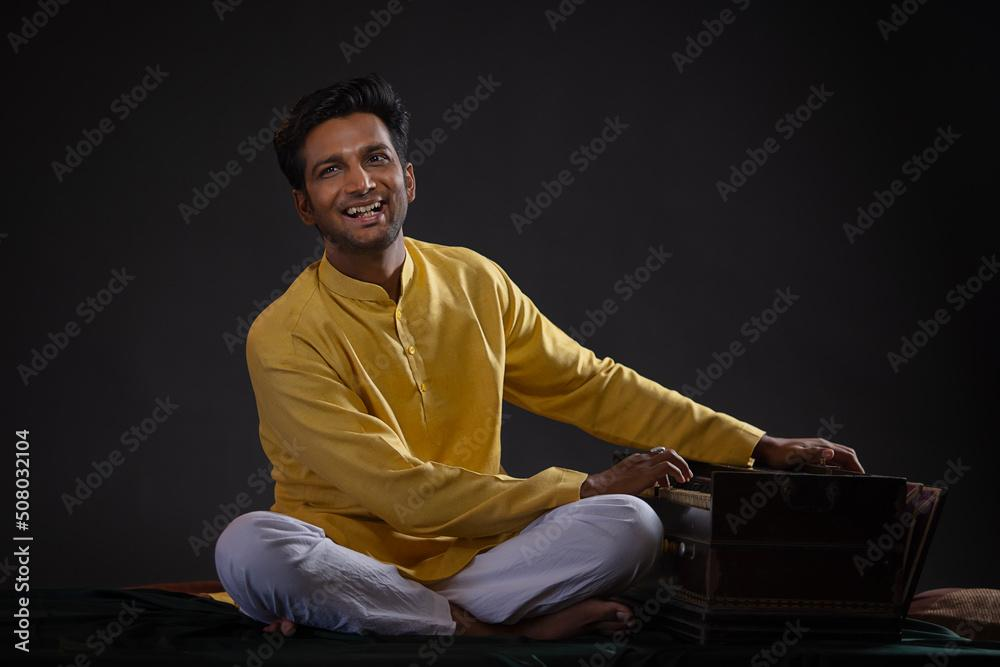Human: (189, 75, 810, 620)
